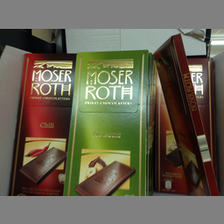chocolate: (64, 51, 149, 195), (150, 33, 220, 194), (7, 53, 77, 195)
